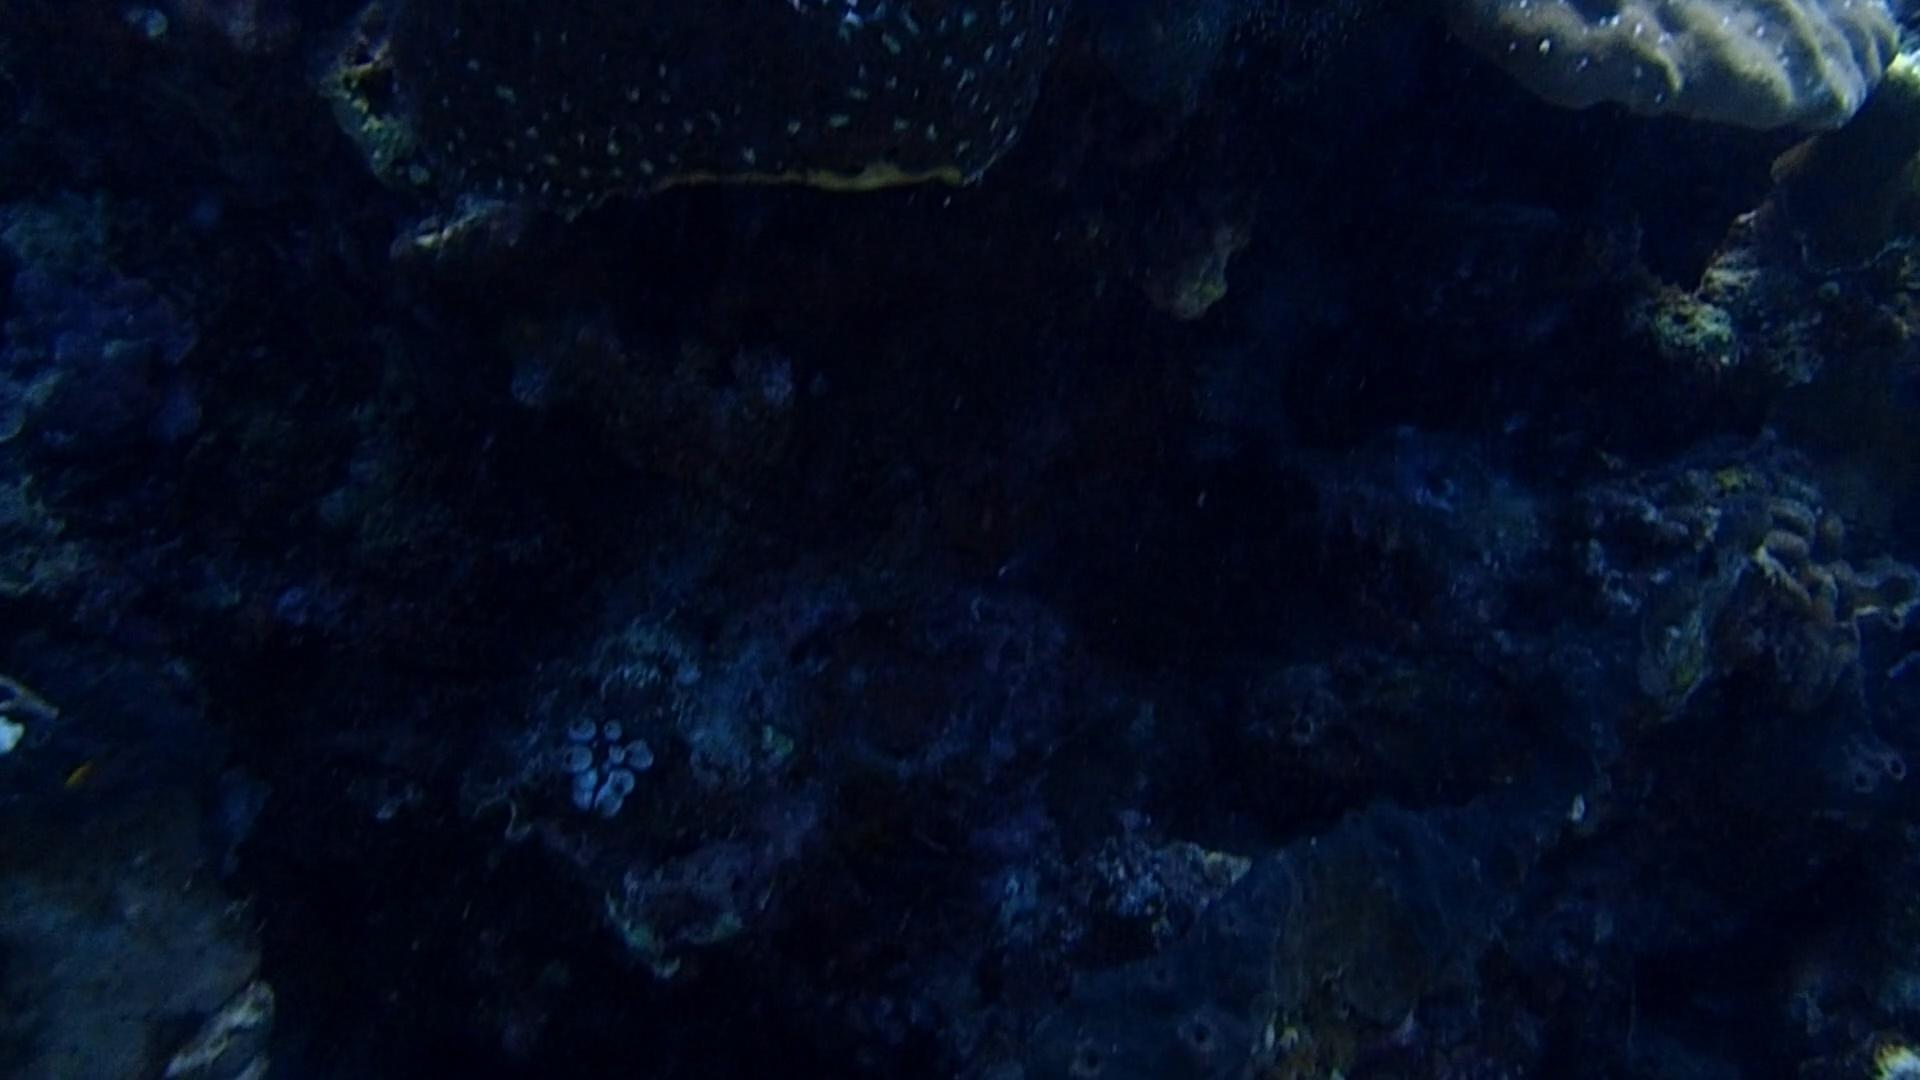Yellow Fish: (49, 749, 99, 800)
